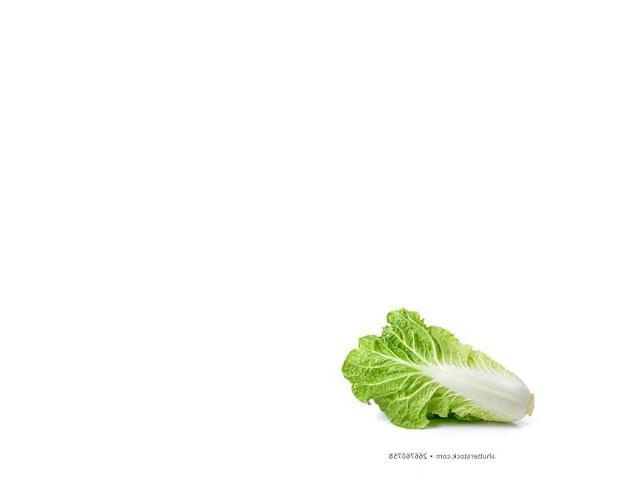lettuce: (358, 325, 527, 426)
